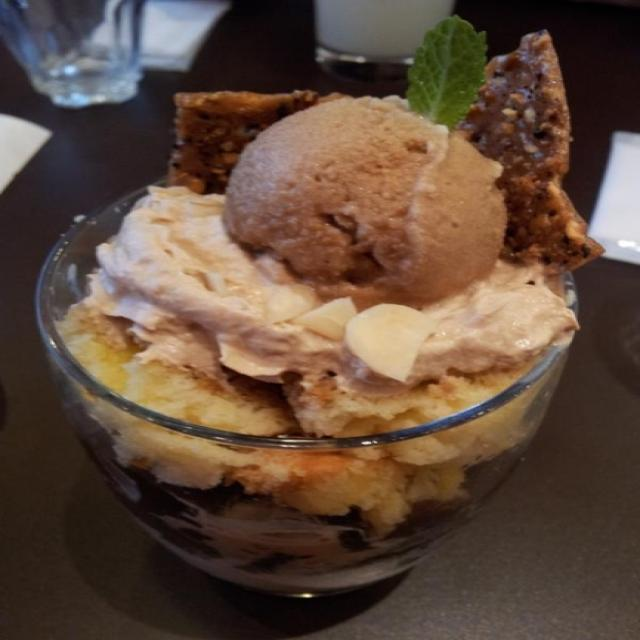蛋糕甜品: (27, 21, 591, 602)
